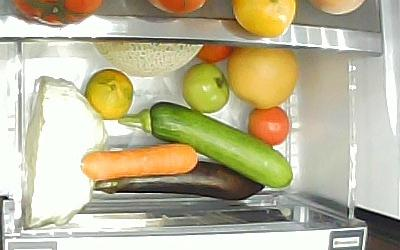cabbage: (24, 75, 106, 227)
carrot: (80, 143, 198, 181)
eggplant: (92, 160, 265, 201)
melon: (93, 41, 205, 77)
pear: (229, 46, 299, 108)
prune: (196, 42, 232, 62)
tangerine: (86, 69, 134, 121)
tomato: (181, 60, 230, 114), (248, 106, 291, 146)
zucchini: (119, 100, 293, 189)
